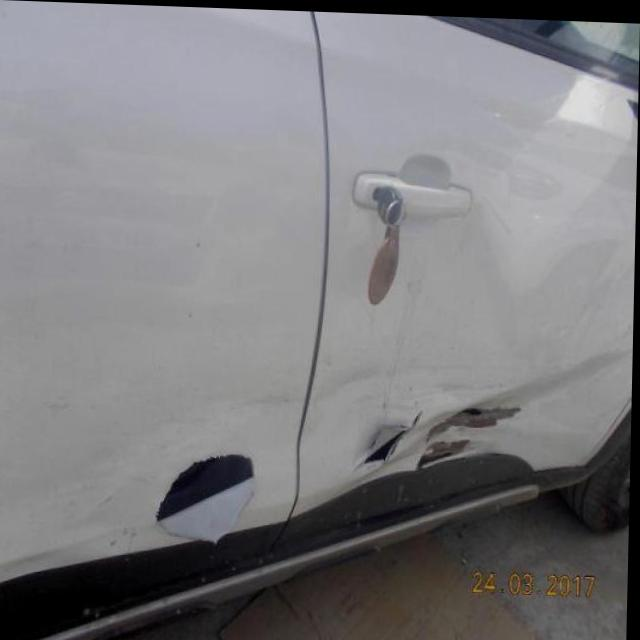Car-Damage: (88, 345, 484, 528), (350, 379, 523, 476), (152, 440, 271, 542)
